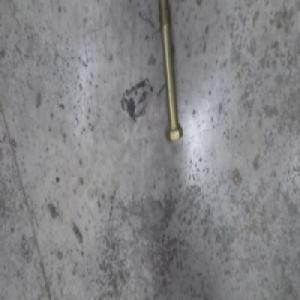Bolt: (158, 14, 184, 147)
